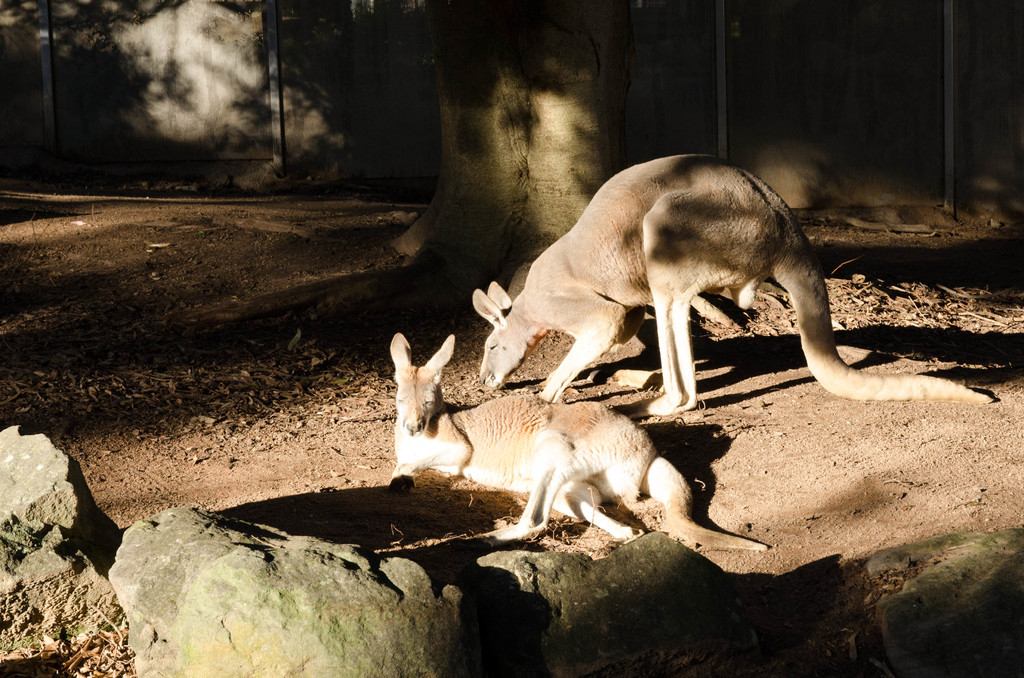kangaroo: (471, 155, 994, 419)
